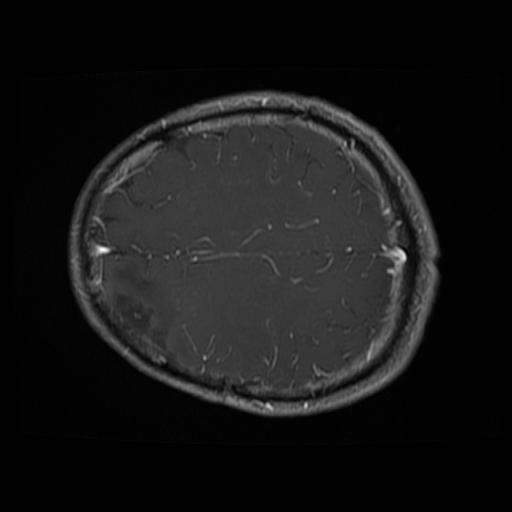glioma: (106, 262, 176, 354)
